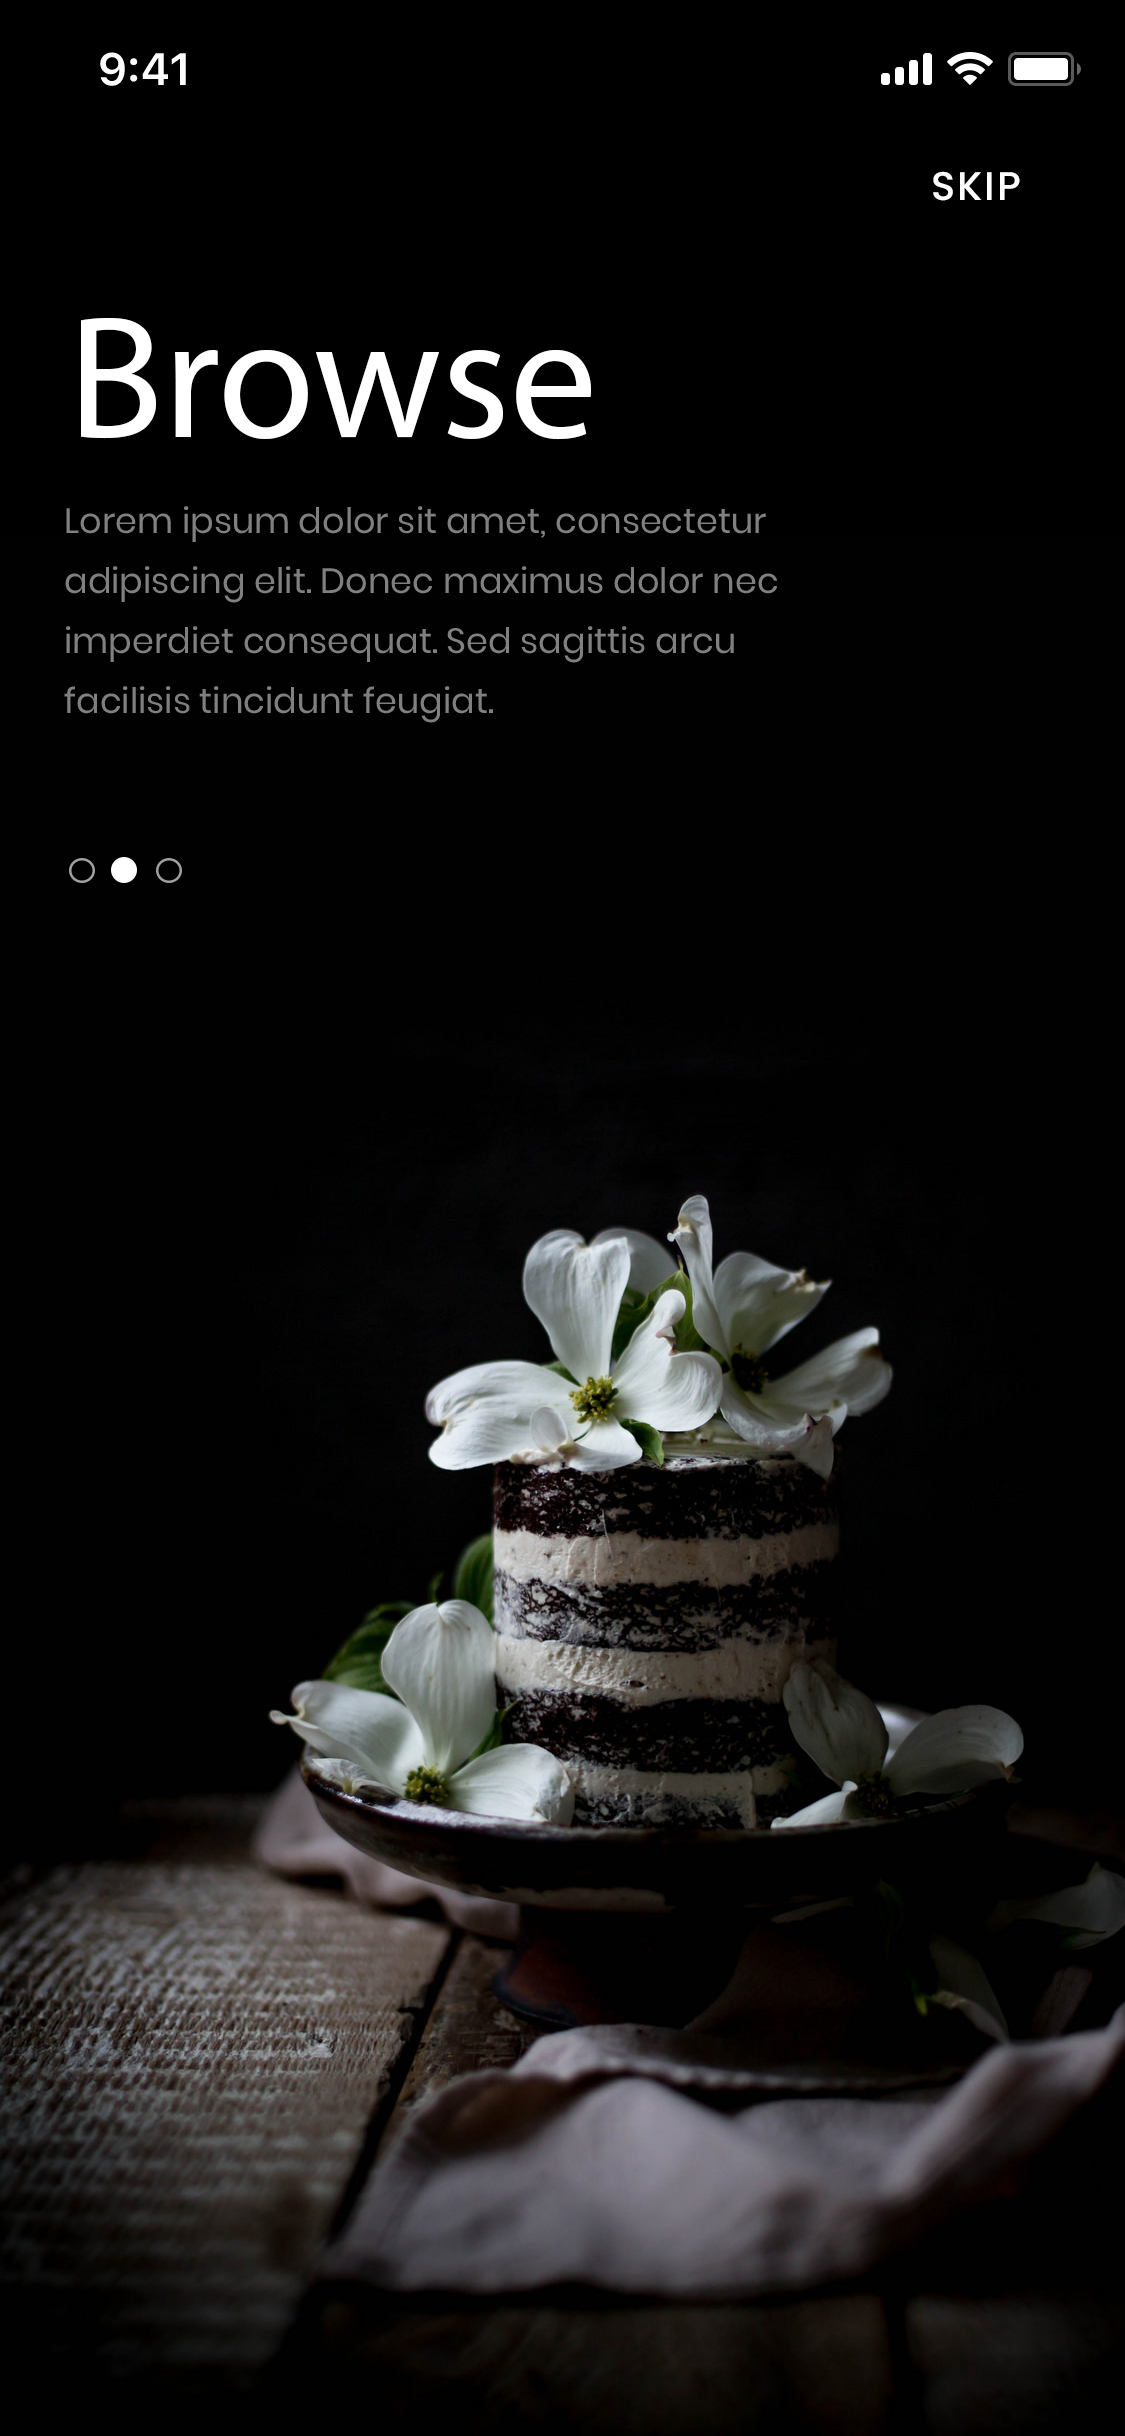Image: (2, 1182, 1125, 2436)
PageIndicator: (68, 856, 183, 886)
Text: (64, 505, 778, 726), (79, 317, 594, 443), (932, 171, 1021, 204)
UpperTaskBar: (99, 50, 1083, 89)
